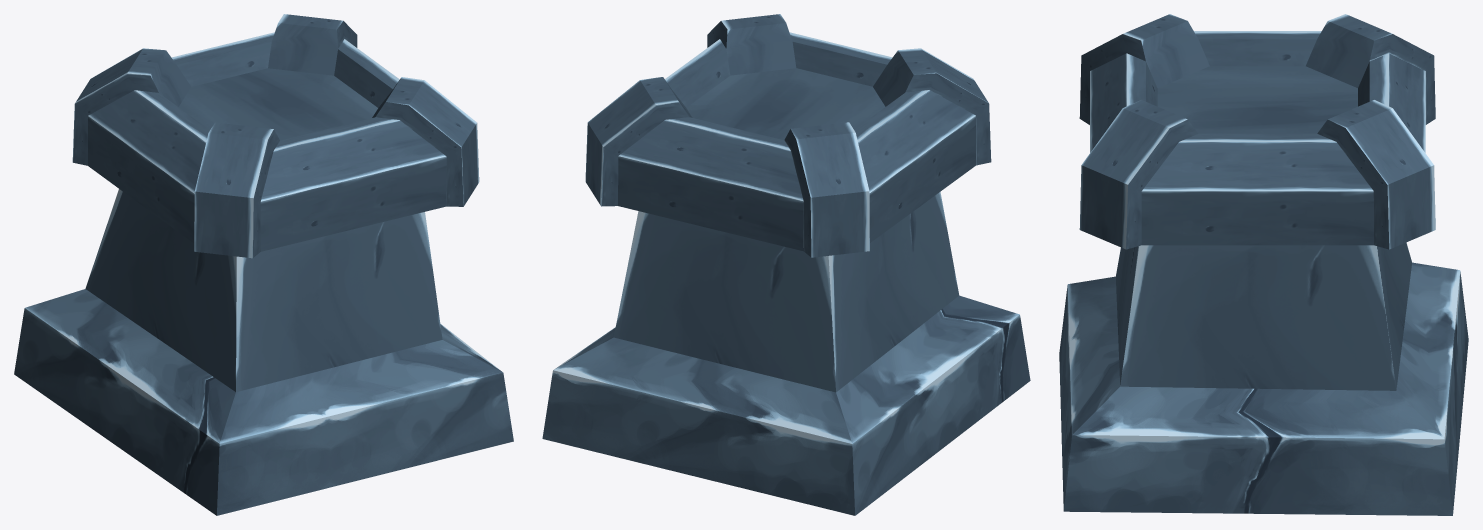
Rendered from SM_PROP_column_small_v02_01.fbx.
3 renders of one model, left to right at view 1: azimuth 30°, elevation 25°; view 2: azimuth 150°, elevation 25°; view 3: azimuth 270°, elevation 25°, orthographic. The views are drawn at different scales.
Parts seen in each view (by area): view 1: SM_PROP_column_small_v02_01; view 2: SM_PROP_column_small_v02_01; view 3: SM_PROP_column_small_v02_01.
Part boxes in pixels (x1,y1,x2,y2): SM_PROP_column_small_v02_01: (14,14,513,515); SM_PROP_column_small_v02_01: (542,14,1030,515); SM_PROP_column_small_v02_01: (1059,14,1468,515).
Bounding box in the file's own units: 112 × 112 × 114.
